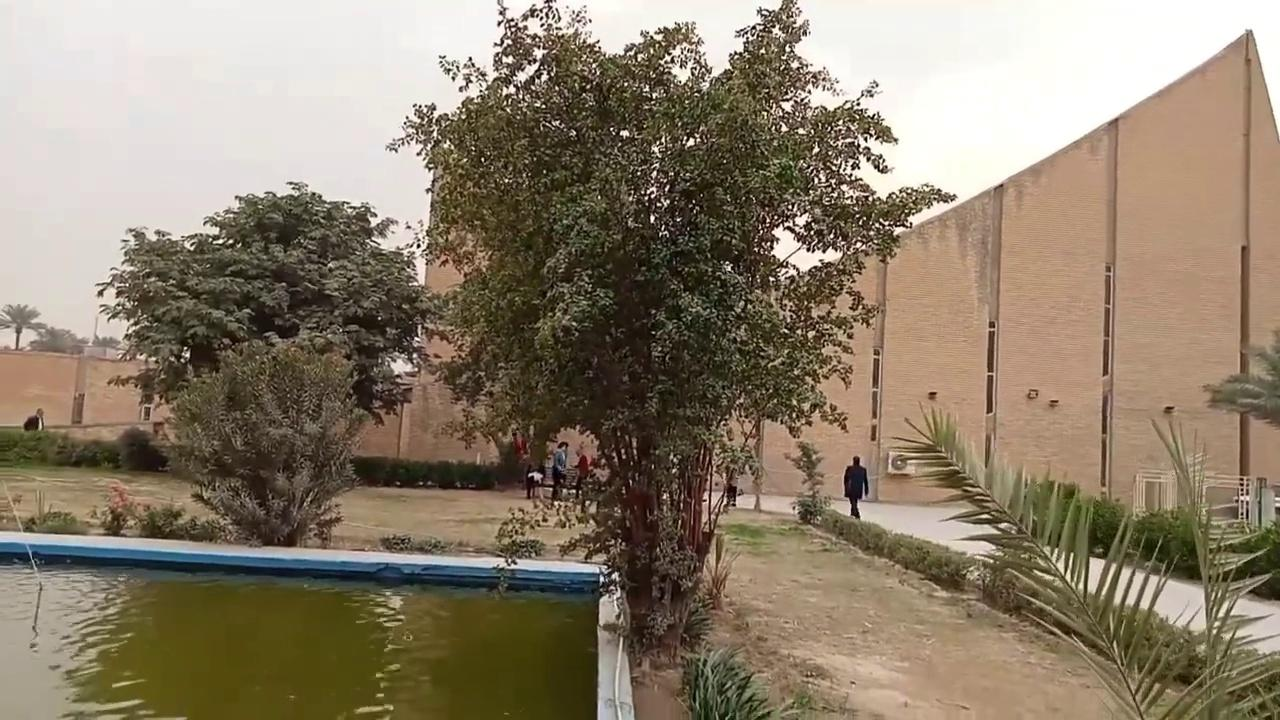fountain: (1, 530, 615, 718)
person: (842, 455, 869, 518), (549, 441, 568, 502), (572, 448, 588, 499), (722, 464, 738, 511), (22, 407, 44, 431)
tree: (383, 0, 956, 685), (885, 398, 1278, 718), (94, 178, 447, 447), (164, 334, 367, 548), (1202, 321, 1279, 429), (673, 644, 772, 718), (785, 439, 827, 524), (0, 302, 41, 350)
